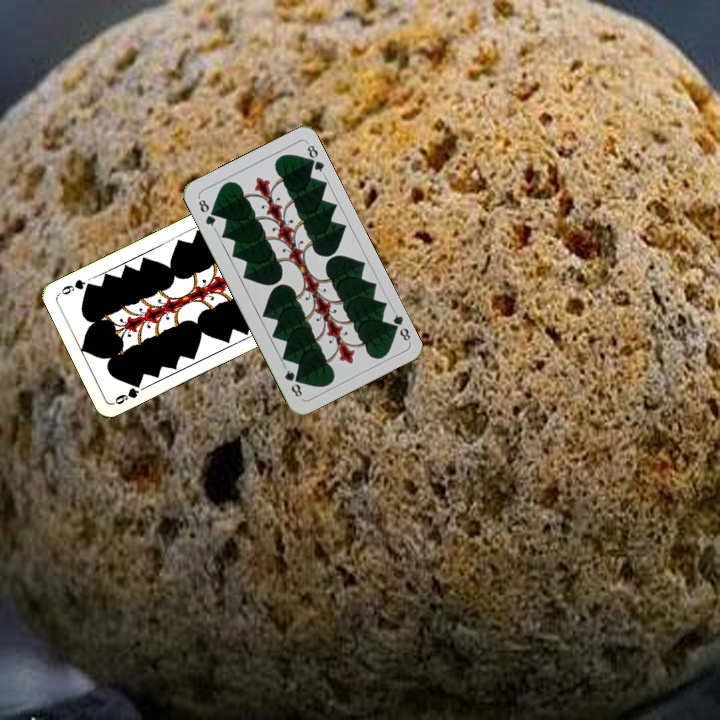G8: (385, 307, 413, 345), (194, 194, 218, 232)
G9: (109, 377, 144, 407)
